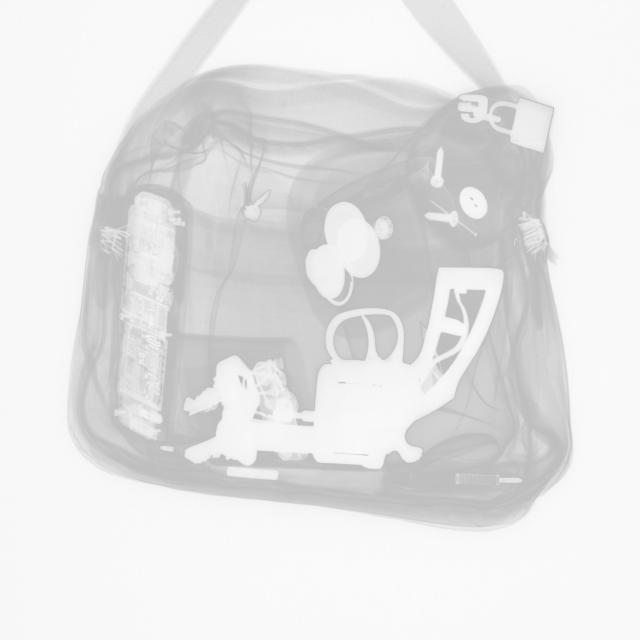pistol: (240, 266, 504, 470)
